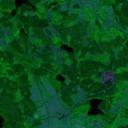alloviz: (9, 1, 38, 17), (86, 97, 105, 117), (59, 43, 74, 54), (54, 72, 66, 83), (1, 113, 5, 128)
